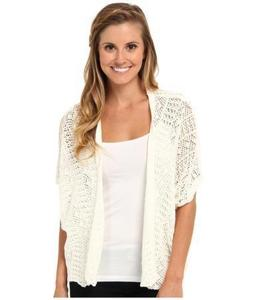C_cardigan sweater: (48, 85, 216, 295)
